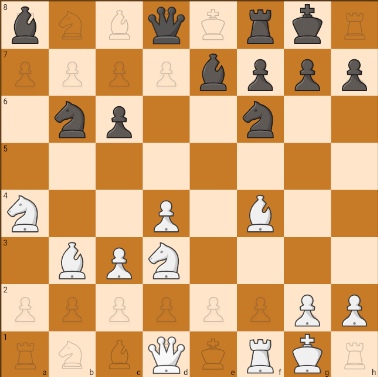bb: (3, 1, 46, 49), (192, 50, 233, 94)
bk: (289, 1, 328, 48)
bn: (50, 98, 95, 141), (241, 99, 279, 140)
bp: (238, 52, 283, 94), (148, 332, 189, 375), (337, 53, 373, 95), (101, 101, 139, 140), (290, 53, 326, 93)
bq: (146, 2, 188, 48)
br: (241, 1, 282, 49)
wb: (53, 239, 92, 282)
wk: (284, 332, 330, 377)
wn: (3, 194, 46, 235), (146, 241, 184, 282), (242, 335, 278, 375)
wp: (99, 241, 140, 283), (336, 286, 372, 330), (290, 287, 325, 329), (147, 196, 184, 235)
